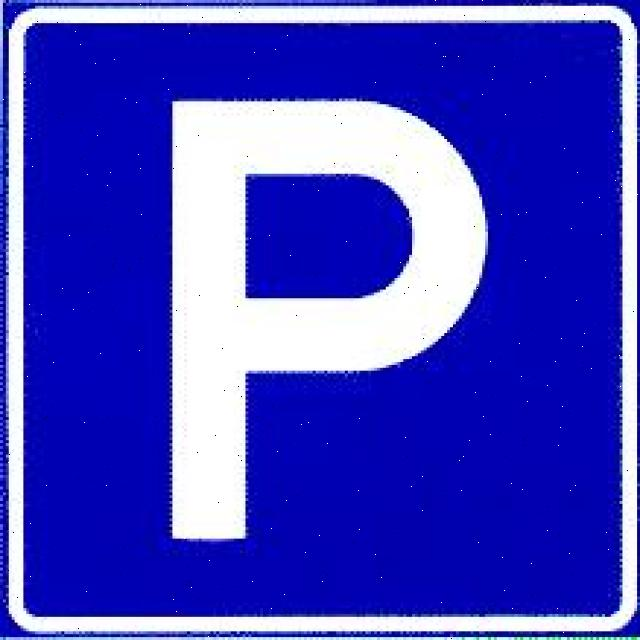parking: (129, 76, 505, 557)
